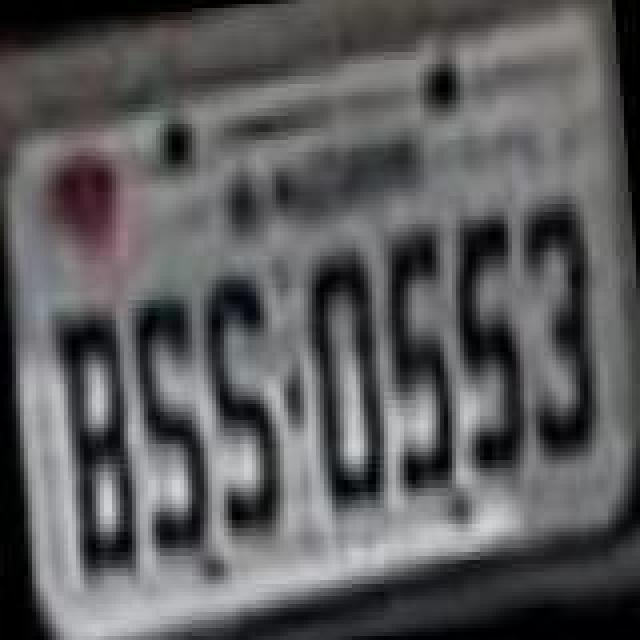3: (514, 200, 606, 472)
5: (442, 206, 534, 482), (376, 228, 464, 500)
B: (48, 308, 144, 588)
O: (304, 252, 392, 516)
S: (196, 272, 292, 544), (128, 292, 216, 564)
